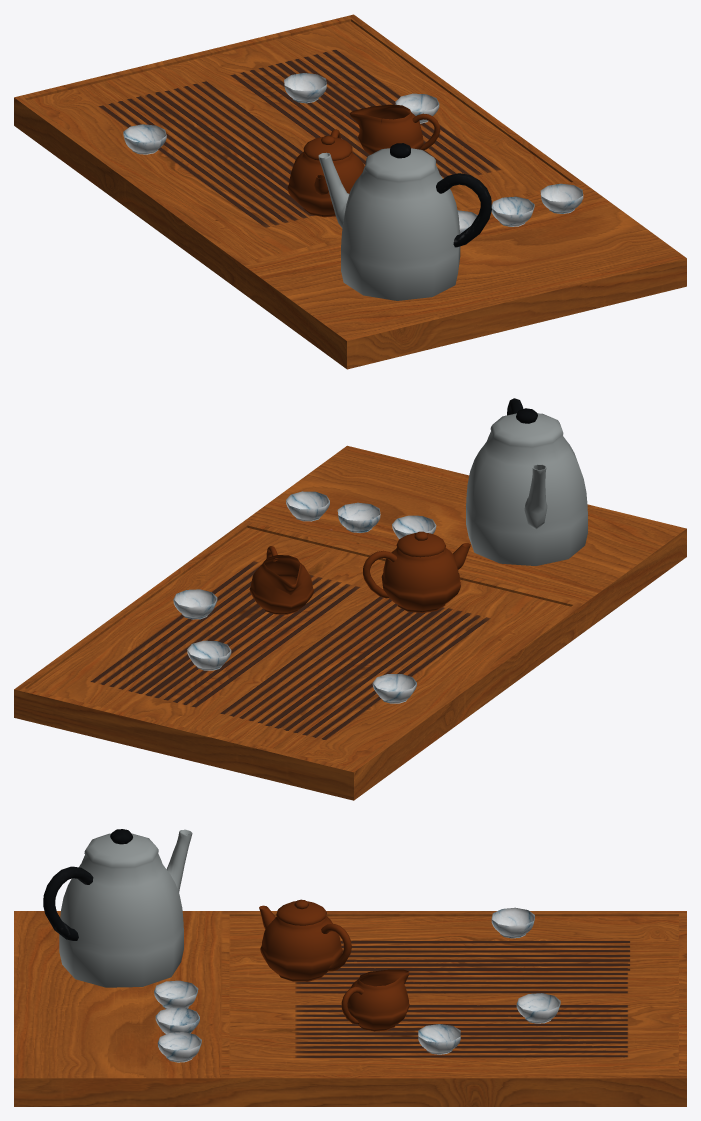
The model's file is teatable.fbx.
3 renders of one model, top to bottom at view 1: azimuth 30°, elevation 25°; view 2: azimuth 150°, elevation 25°; view 3: azimuth 270°, elevation 25°, orthographic.
Parts seen in each view (by area): view 1: Cube.038, NurbsPath.008, NurbsPath.005, NurbsPath.003, NurbsPath.011; view 2: Cube.038, NurbsPath.008, NurbsPath.005, NurbsPath.003, NurbsPath.011; view 3: Cube.038, NurbsPath.008, NurbsPath.005, NurbsPath.003, NurbsPath.011.
Part boxes in pixels (x1,y1,x2,y2): Cube.038: (14, 14, 686, 369); NurbsPath.008: (318, 143, 491, 300); NurbsPath.005: (123, 73, 583, 233); NurbsPath.003: (287, 129, 364, 217); NurbsPath.011: (349, 104, 440, 154); Cube.038: (14, 445, 686, 800); NurbsPath.008: (466, 398, 587, 565); NurbsPath.005: (173, 491, 436, 703); NurbsPath.003: (363, 531, 470, 613); NurbsPath.011: (249, 546, 313, 614); Cube.038: (14, 911, 686, 1106); NurbsPath.008: (43, 829, 192, 987); NurbsPath.005: (154, 907, 560, 1062); NurbsPath.003: (259, 899, 351, 981); NurbsPath.011: (341, 969, 409, 1031).
Bounding box in the file's own units: 52.83 × 23.74 × 89.68.
